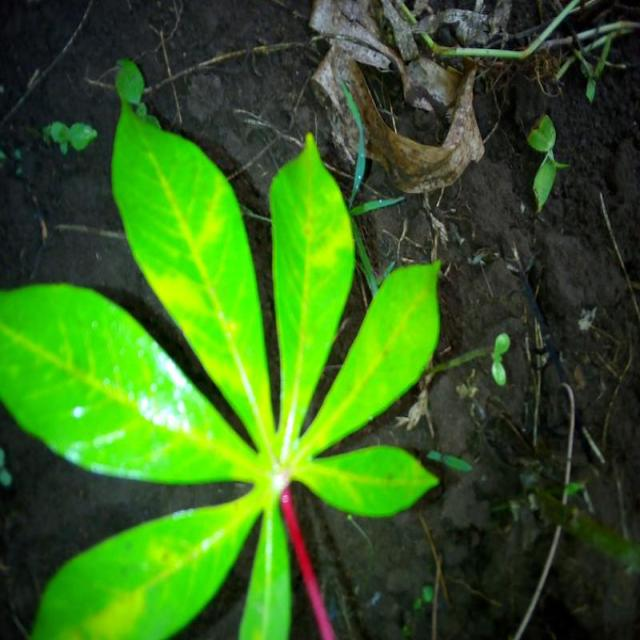cassava leaf: (1, 56, 445, 638), (109, 56, 274, 454), (0, 280, 260, 486), (29, 490, 262, 639), (295, 257, 442, 457), (267, 130, 356, 444)
